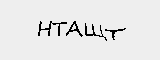А: (62, 19, 84, 40)
Н: (35, 18, 51, 38)
Т: (102, 23, 127, 44), (51, 19, 67, 38)
Щ: (83, 22, 108, 45)
